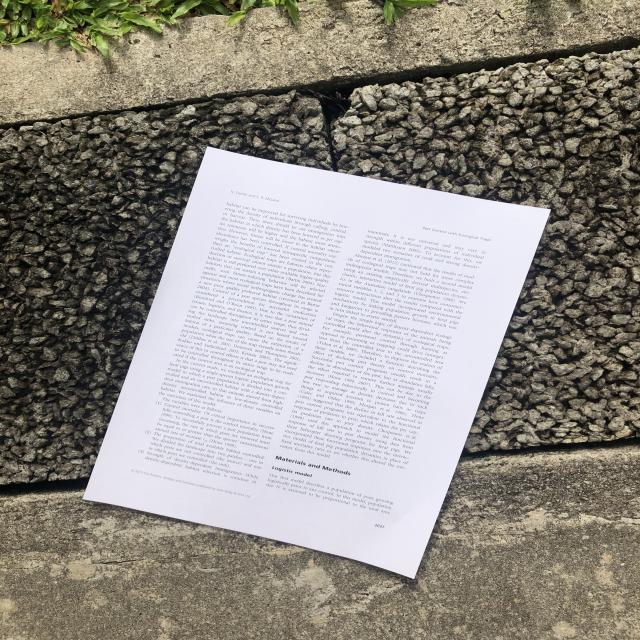document: (85, 148, 548, 578)
